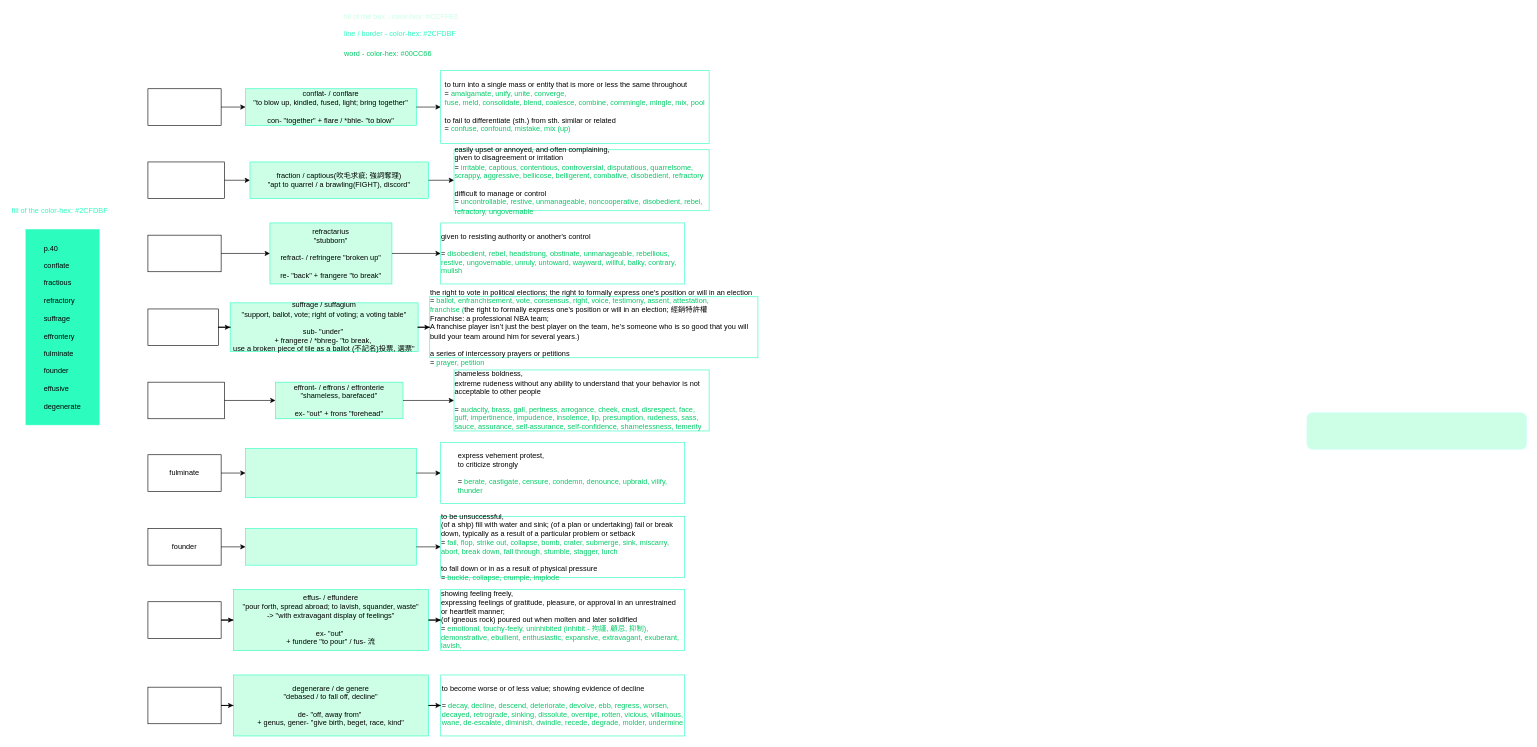
The diagram is 1537 pixels wide and 747 high, and some of its shapes have lost their labels. The shapes that lost their labels are listed below. From the top down, each one's centre as x and y in pixels, then its label:
(x=184, y=106): conflate
(x=185, y=180): fractious
(x=184, y=253): refractory
(x=182, y=327): suffrage
(x=185, y=400): effrontery
(x=1416, y=430): log transformation
(x=330, y=472): fulminat- / fulmen / fulmin- / fulminare "lightning" (記法: 大發雷霆)
(x=330, y=546): fondrer / esfondrer "submerge, collapse" fundus "bottom, base"
(x=184, y=619): effusive
(x=184, y=705): degenerate
